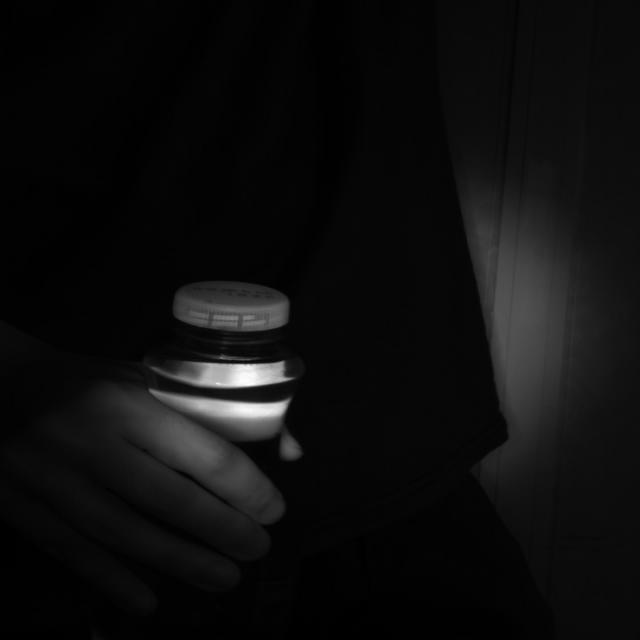Not Good: (170, 281, 290, 346)
